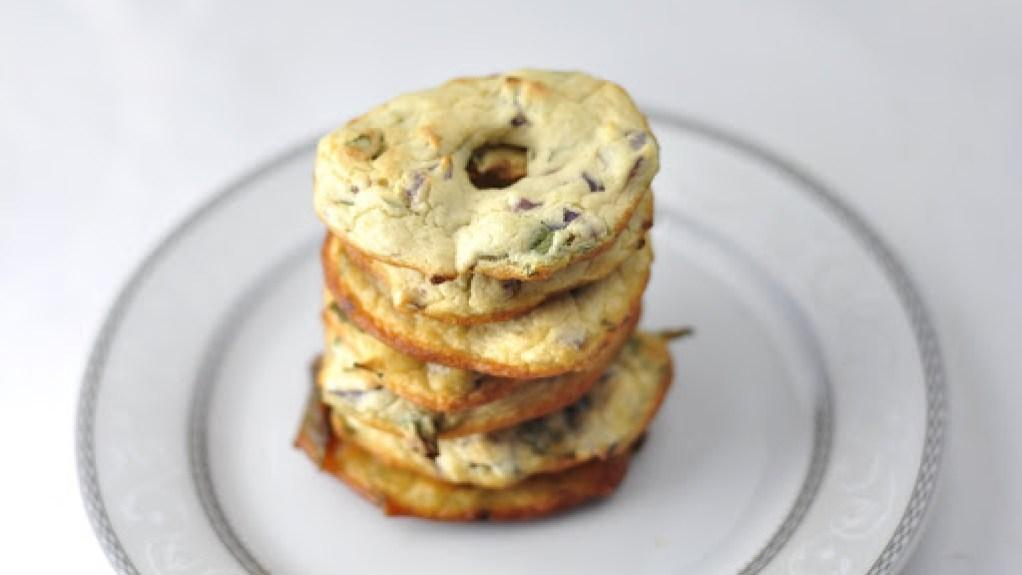mvada: (353, 131, 656, 495)
